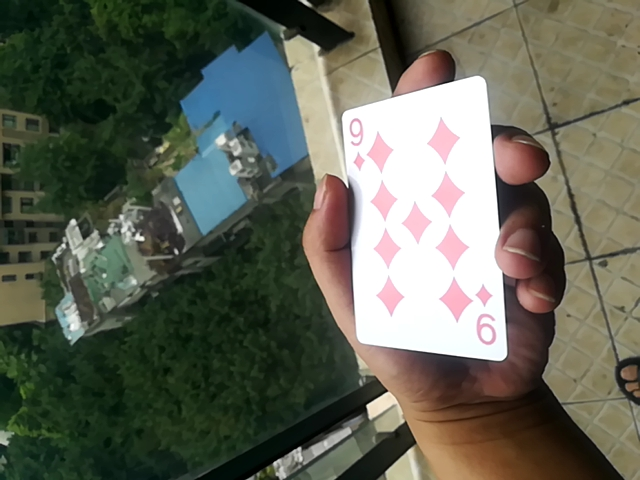fk 9: (338, 74, 507, 369)
